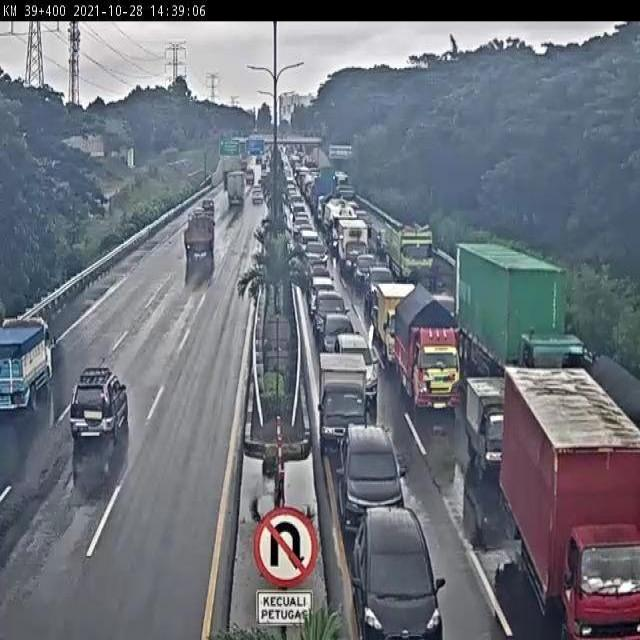big truck: (451, 236, 595, 396), (381, 220, 442, 289)
car: (343, 508, 465, 640), (333, 416, 411, 539), (462, 371, 514, 485), (66, 362, 133, 449), (332, 325, 381, 399), (313, 292, 351, 345), (364, 265, 395, 315), (324, 312, 355, 356), (306, 276, 335, 315)
small truck: (506, 373, 640, 640), (396, 284, 460, 419), (319, 347, 374, 462), (0, 318, 58, 418), (375, 276, 422, 369), (182, 203, 222, 269), (226, 171, 248, 209)
